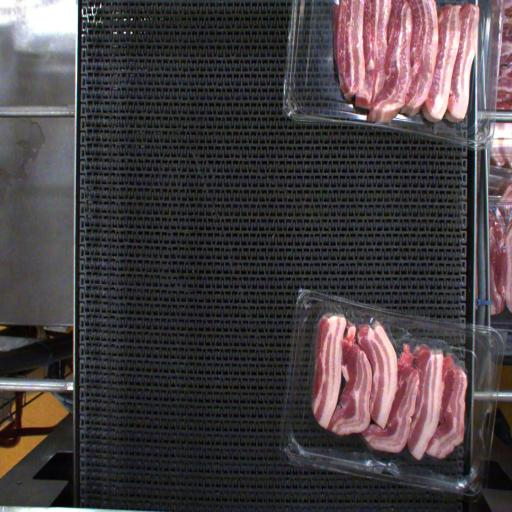unsealed: (318, 296, 470, 408)
